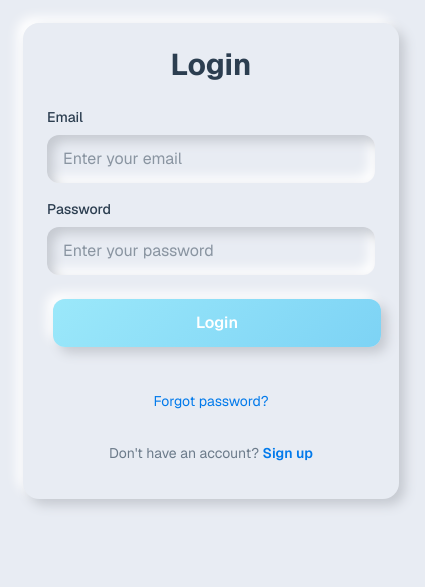
Scenario: Login Component › should handle login failure
Type "test@example.com" into the field labelled "Email" at (211, 159), box [47, 135, 375, 183]
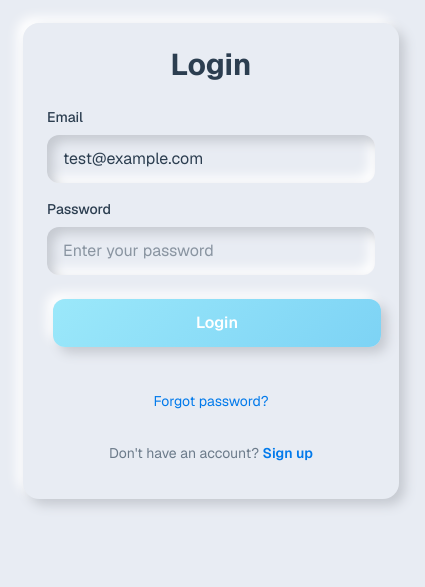
Type "wrongpassword" into the password field labelled "Password" at (211, 251), box [47, 227, 375, 275]
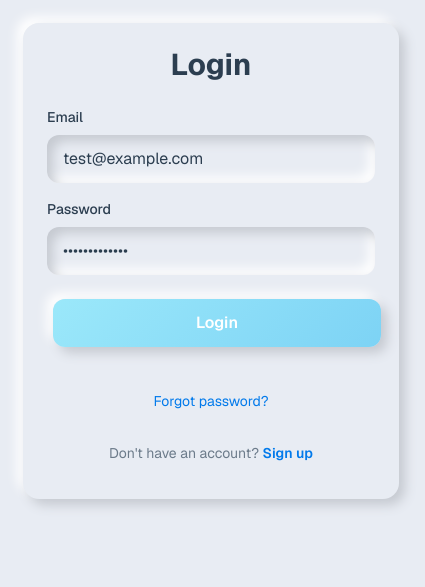
Click the button "Login" at (217, 323), box [53, 299, 381, 347]
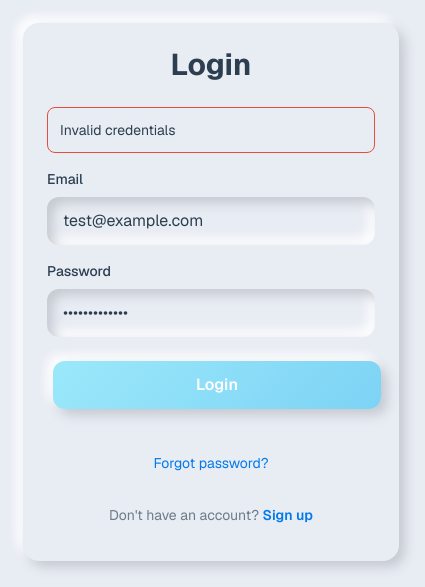
expect the text "Invalid credentials" is shown: met, box [60, 121, 176, 139]
